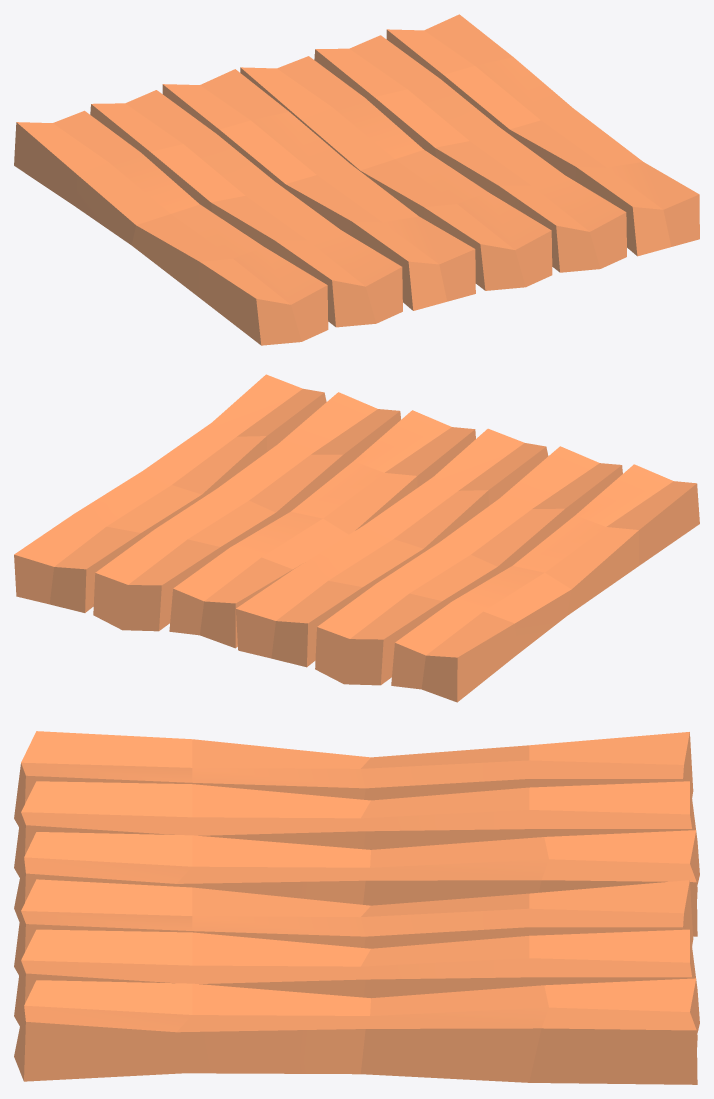
File: PlatformM_Wood1.fbx
3 renders of one model, top to bottom at view 1: azimuth 30°, elevation 25°; view 2: azimuth 150°, elevation 25°; view 3: azimuth 270°, elevation 25°, orthographic. The views are drawn at different scales.
Parts seen in each view (by area): view 1: WoodPlank6_1, WoodPlank4_1, WoodPlank4, WoodPlank5_1, WoodPlank5, WoodPlank6; view 2: WoodPlank6_1, WoodPlank4_1, WoodPlank4, WoodPlank5, WoodPlank5_1, WoodPlank6; view 3: WoodPlank5, WoodPlank5_1, WoodPlank4_1, WoodPlank4, WoodPlank6_1, WoodPlank6.
Part boxes in pixels (left/top/right/bottom): WoodPlank6_1: left=14, top=110, right=328, bottom=345; WoodPlank4_1: left=90, top=90, right=402, bottom=327; WoodPlank4: left=314, top=35, right=626, bottom=272; WoodPlank5_1: left=162, top=69, right=475, bottom=310; WoodPlank5: left=386, top=14, right=699, bottom=256; WoodPlank6: left=240, top=56, right=552, bottom=290; WoodPlank6_1: left=391, top=464, right=699, bottom=702; WoodPlank4_1: left=315, top=446, right=622, bottom=685; WoodPlank4: left=93, top=392, right=400, bottom=631; WoodPlank5: left=14, top=374, right=326, bottom=612; WoodPlank5_1: left=236, top=428, right=548, bottom=667; WoodPlank6: left=169, top=410, right=475, bottom=648; WoodPlank5: left=14, top=978, right=697, bottom=1084; WoodPlank5_1: left=14, top=830, right=697, bottom=936; WoodPlank4_1: left=14, top=781, right=699, bottom=884; WoodPlank4: left=14, top=929, right=699, bottom=1032; WoodPlank6_1: left=14, top=731, right=693, bottom=826; WoodPlank6: left=14, top=879, right=693, bottom=974.
Size of the model in its own units: 404 by 44.35 by 396.
